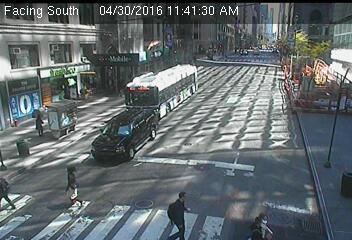neg: (320, 139, 342, 168), (76, 81, 88, 98), (205, 47, 215, 61)
pos: (161, 190, 197, 239), (54, 161, 88, 208), (249, 209, 272, 239), (30, 112, 46, 134)
